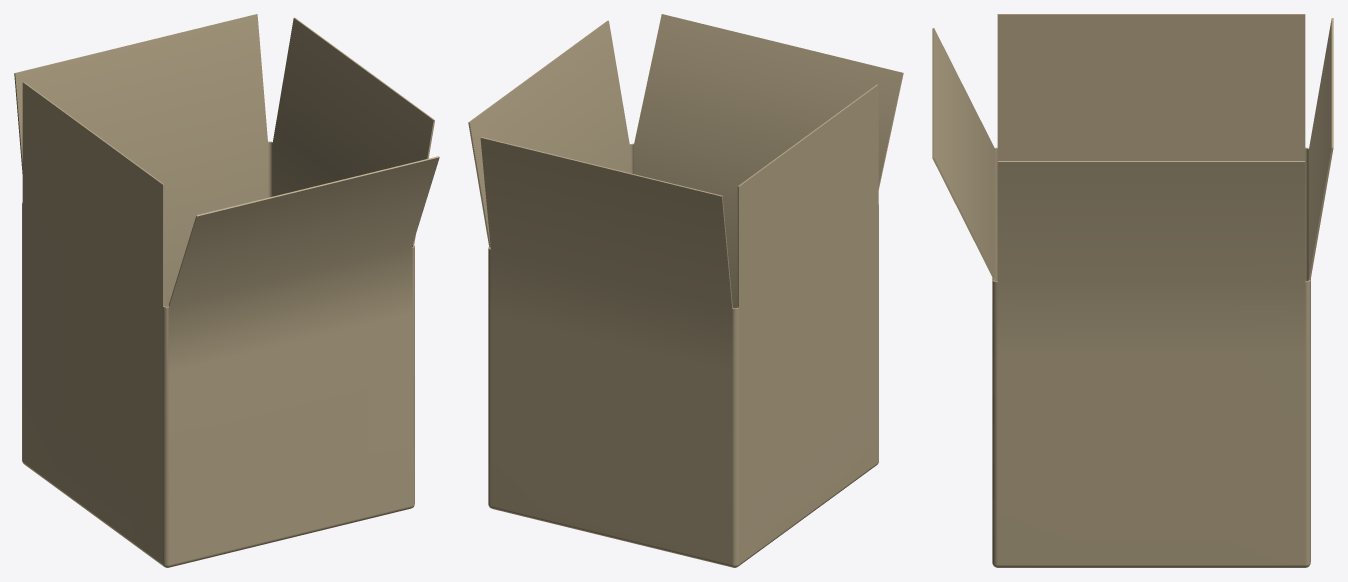
Rendered from Open Cardboard Box.fbx.
The picture shows the model from 3 angles, left to right: view 1: azimuth 30°, elevation 25°; view 2: azimuth 150°, elevation 25°; view 3: azimuth 270°, elevation 25°; orthographic projection. The views are drawn at different scales.
Visible parts, largest first — view 1: open_box; view 2: open_box; view 3: open_box.
Boxes of the visible parts, left/top/right/bottom form: open_box: left=14, top=14, right=439, bottom=567; open_box: left=468, top=14, right=903, bottom=567; open_box: left=932, top=14, right=1333, bottom=567.
Size of the model in its own units: 5.85 by 7.88 by 6.8.
